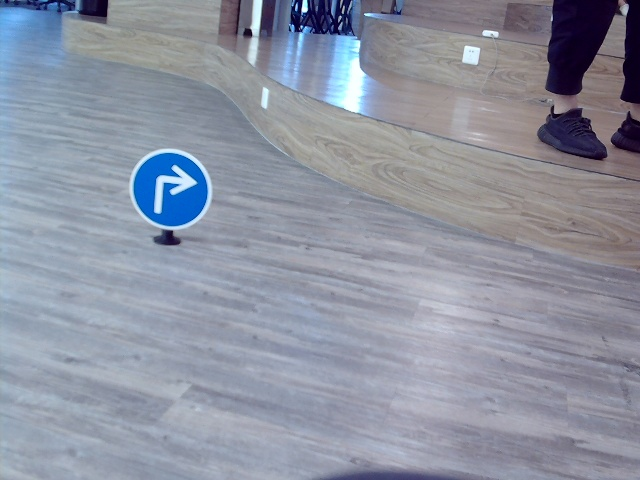turn_right: (150, 162, 193, 215)
